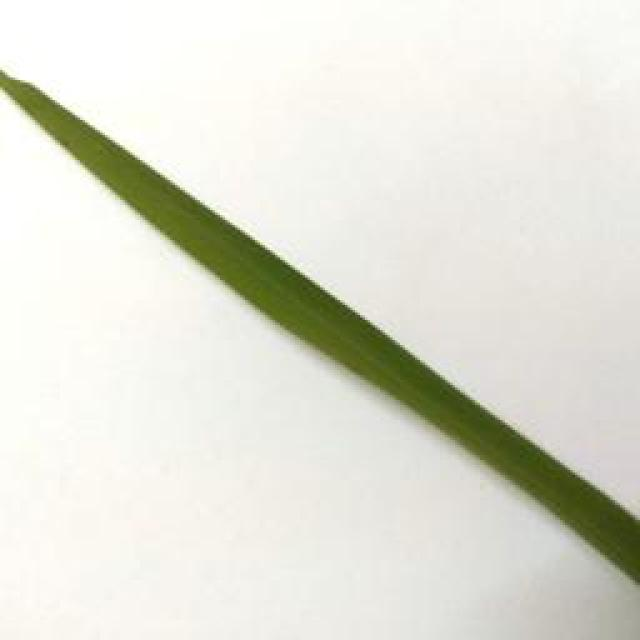Healthy-Plant: (0, 70, 640, 588)
